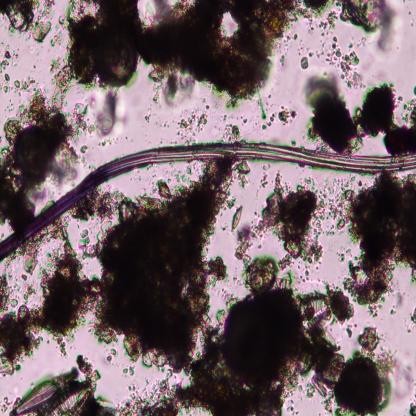Background material: (97, 164, 235, 370), (184, 293, 340, 414), (142, 0, 300, 104), (0, 99, 89, 229), (25, 222, 102, 360), (344, 172, 416, 307), (256, 167, 330, 266), (304, 75, 358, 156), (358, 82, 416, 154), (54, 0, 97, 97), (330, 349, 392, 415), (0, 307, 44, 381), (114, 373, 191, 415), (327, 35, 368, 88), (244, 252, 292, 292), (18, 235, 44, 306), (76, 193, 134, 221), (337, 0, 386, 33), (96, 1, 145, 32), (89, 93, 122, 139), (328, 182, 352, 232), (0, 0, 35, 33), (234, 220, 262, 260), (379, 4, 400, 56), (390, 359, 414, 400), (260, 107, 298, 132), (74, 352, 100, 388), (75, 227, 101, 261), (178, 110, 208, 139), (0, 269, 19, 311), (357, 322, 381, 354), (89, 393, 118, 414), (316, 12, 340, 34), (1, 49, 12, 95), (221, 121, 245, 142), (233, 158, 250, 187), (301, 1, 332, 16), (33, 21, 52, 44), (14, 77, 37, 95), (36, 1, 55, 22), (257, 88, 266, 119), (407, 306, 416, 331), (300, 55, 310, 71), (106, 348, 117, 361), (123, 365, 134, 376), (408, 400, 416, 415)
Diatom: (10, 369, 77, 413), (97, 31, 137, 86), (296, 293, 334, 335), (50, 385, 89, 416), (231, 205, 243, 233)
Microfibre: (0, 143, 416, 260)
